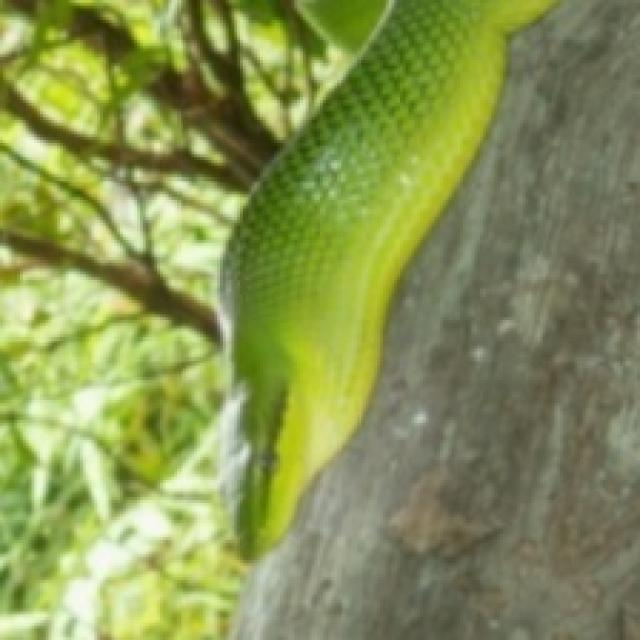red-tailed green ratsnake: (223, 0, 549, 549)
